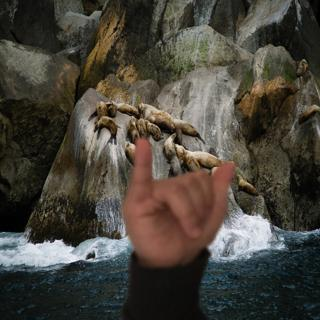HAVE: (111, 134, 241, 270)
